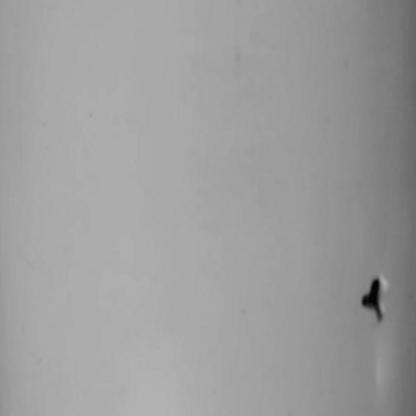kongdong: (351, 265, 391, 338)
